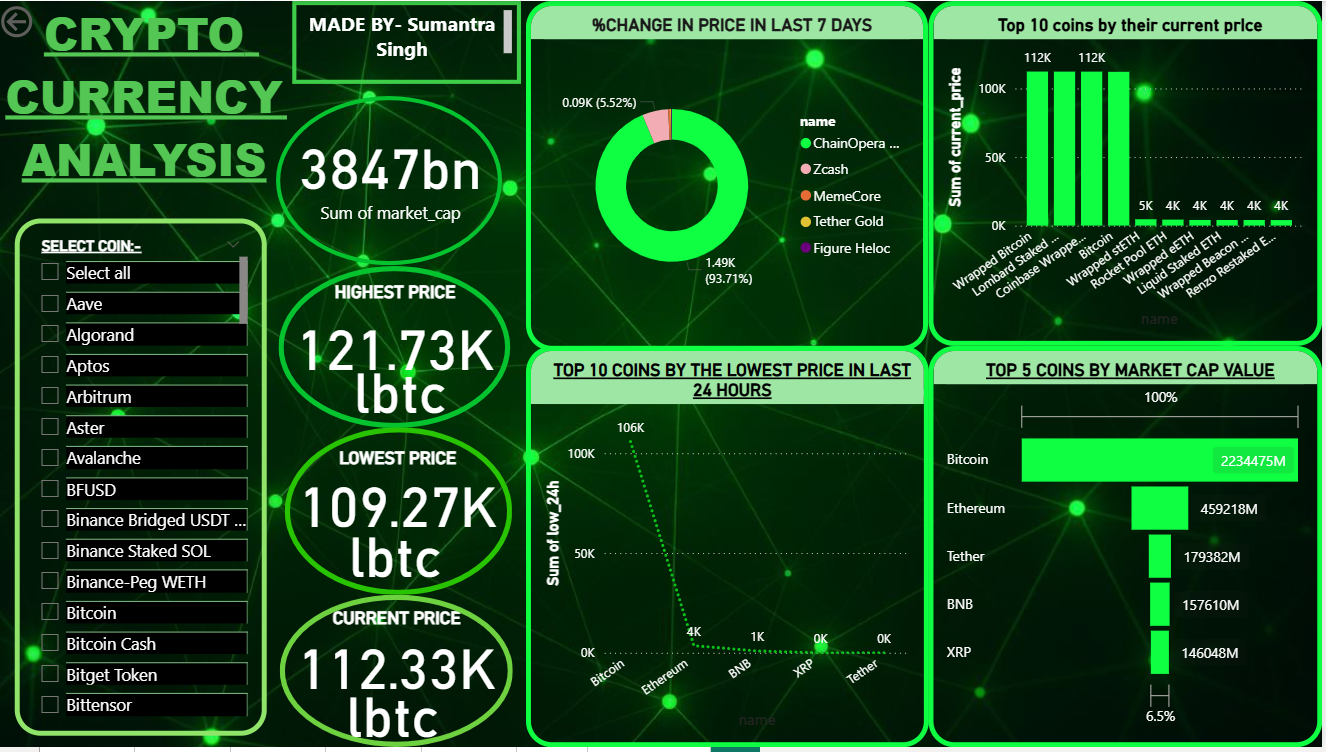

This screenshot's page, from the dashboard's own definition file:
{"tool":"powerbi","page":{"name":"dashboard","canvas":[1280,720],"ordinal":6},"visuals":[{"type":"textbox","box":[0,0,285.9,209.9],"z":0},{"type":"card","fields":{"Values":["Sum(crypto.market_cap)"]},"box":[274.4,98.8,214.1,134.5],"z":1000},{"type":"card","title":"HIGHEST PRICE","fields":{"Values":["markets?vs_currency=usd&order=market_cap_desc&per_page=100&page=1&price_change_p.max24price"]},"box":[282.7,270.3,205.8,100.2],"z":2000},{"type":"card","title":"LOWEST PRICE","fields":{"Values":["markets?vs_currency=usd&order=market_cap_desc&per_page=100&page=1&price_change_p.min24price"]},"box":[278.6,430.9,218.2,82.3],"z":3000},{"type":"shape","box":[270.3,91.9,218.2,163.3],"z":4000},{"type":"shape","box":[273.1,255.2,223.7,156.4],"z":5000},{"type":"shape","box":[278.6,411.7,219.6,161.9],"z":6000},{"type":"clusteredColumnChart","title":"Top 10 coins by their current prIce","fields":{"Category":["markets?vs_currency=usd&order=market_cap_desc&per_page=100&page=1&price_change_p.name"],"Y":["Sum(markets?vs_currency=usd&order=market_cap_desc&per_page=100&page=1&price_change_p.current_price)"]},"box":[900,0,380,333],"z":7000},{"type":"donutChart","title":"%CHANGE IN PRICE IN LAST 7 DAYS","fields":{"Category":["markets?vs_currency=usd&order=market_cap_desc&per_page=100&page=1&price_change_p.name"],"Y":["Sum(crypto.price_change_percentage_7d_in_currency)"]},"box":[511.8,0,388.3,337.6],"z":8000},{"type":"lineChart","title":"TOP 10 COINS BY THE LOWEST PRICE IN LAST 24 HOURS","fields":{"Y":["Sum(crypto.low_24h)"],"Category":["crypto.name"]},"box":[511.5,333,388.5,387.3],"z":9000},{"type":"funnel","title":"TOP 5 COINS BY MARKET CAP VALUE","fields":{"Category":["markets?vs_currency=usd&order=market_cap_desc&per_page=100&page=1&price_change_p.name"],"Y":["Sum(markets?vs_currency=usd&order=market_cap_desc&per_page=100&page=1&price_change_p.market_cap)"]},"box":[900,333,380,387.3],"z":10000},{"type":"actionButton","box":[0,0,100,40],"z":11000},{"type":"card","title":"CURRENT PRICE","fields":{"Values":["markets?vs_currency=usd&order=market_cap_desc&per_page=100&page=1&price_change_p.current max"]},"box":[281.3,584.6,211.3,86.4],"z":12000},{"type":"shape","box":[274.4,573.6,225,146.8],"z":13000},{"type":"card","fields":{"Values":["crypto.CoinWithMaxPrice24H"]},"box":[336.2,337.6,107,68.6],"z":14000},{"type":"card","fields":{"Values":["crypto.CoinWithMaxPrice24H"]},"box":[332.1,498.1,107,63.1],"z":15000},{"type":"card","fields":{"Values":["crypto.CoinWithMaxPrice24H"]},"box":[329.3,647.7,107,72.7],"z":16000},{"type":"slicer","title":"SELECT COIN","fields":{"Values":["crypto.name"]},"box":[17.8,209.9,242.9,499.5],"z":17000},{"type":"textbox","box":[285.9,0,220.8,79.6],"z":18000}]}

Visuals, with their boxes in screenshot pixels (x1, y1, x2, y2), scaled from the page's 1280x720 canvas onto the 1326x752 screenshot:
textbox: (0,0,296,219)
card - Sum(crypto.market_cap): (284,103,506,244)
"HIGHEST PRICE" card: (293,282,506,387)
"LOWEST PRICE" card: (289,450,515,536)
shape: (280,96,506,267)
shape: (283,267,515,430)
shape: (289,430,516,599)
"Top 10 coins by their current prIce" clusteredColumnChart: (932,0,1325,348)
"%CHANGE IN PRICE IN LAST 7 DAYS" donutChart: (530,0,932,353)
"TOP 10 COINS BY THE LOWEST PRICE IN LAST 24 HOURS" lineChart: (530,348,932,751)
"TOP 5 COINS BY MARKET CAP VALUE" funnel: (932,348,1325,751)
actionButton: (0,0,104,42)
"CURRENT PRICE" card: (291,611,510,701)
shape: (284,599,517,751)
card - crypto.CoinWithMaxPrice24H: (348,353,459,424)
card - crypto.CoinWithMaxPrice24H: (344,520,455,586)
card - crypto.CoinWithMaxPrice24H: (341,676,452,751)
"SELECT COIN" slicer: (18,219,270,741)
textbox: (296,0,525,83)
